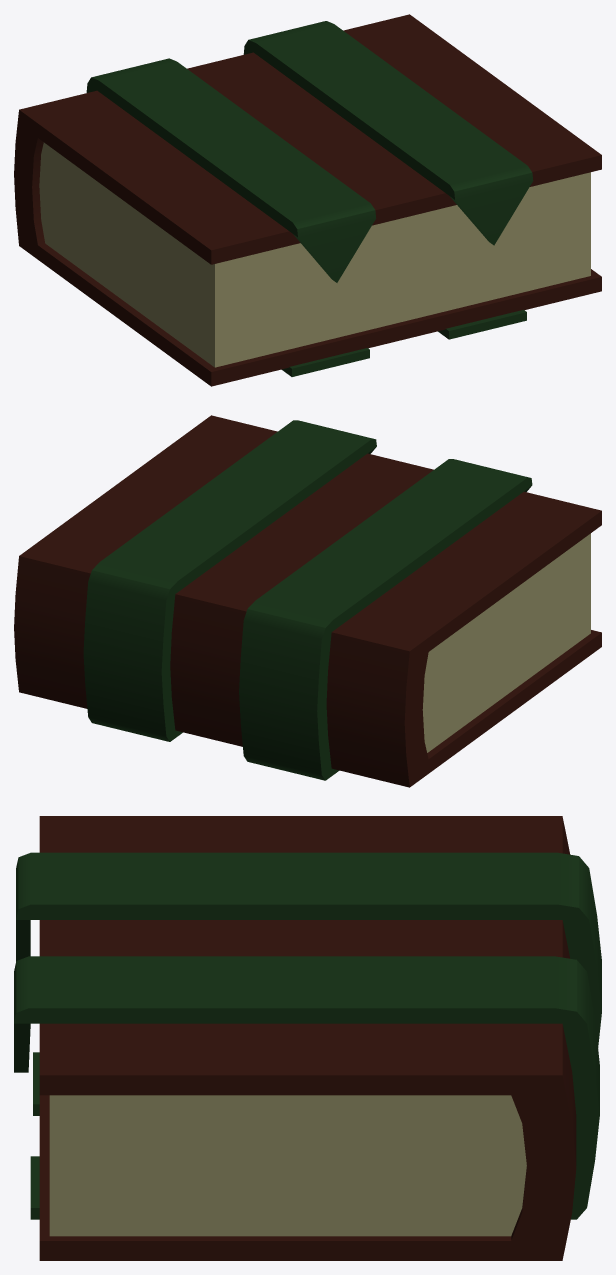
Rendered from LP_Book_002.fbx.
3 views of the same model, one above another, from view 1: azimuth 30°, elevation 25°; view 2: azimuth 150°, elevation 25°; view 3: azimuth 270°, elevation 25° (orthographic). The views are drawn at different scales.
Parts seen in each view (by area): view 1: BookCover_002, Strips_002; view 2: BookCover_002, Strips_002; view 3: BookCover_002, Strips_002.
Part boxes in pixels (x1,y1,x2,y2): BookCover_002: (14,14,601,386); Strips_002: (86,21,533,376); BookCover_002: (14,415,601,787); Strips_002: (83,420,532,780); BookCover_002: (39,816,576,1260); Strips_002: (14,852,601,1219).
Bounding box in the file's own units: 11.81 × 4.49 × 11.32.
